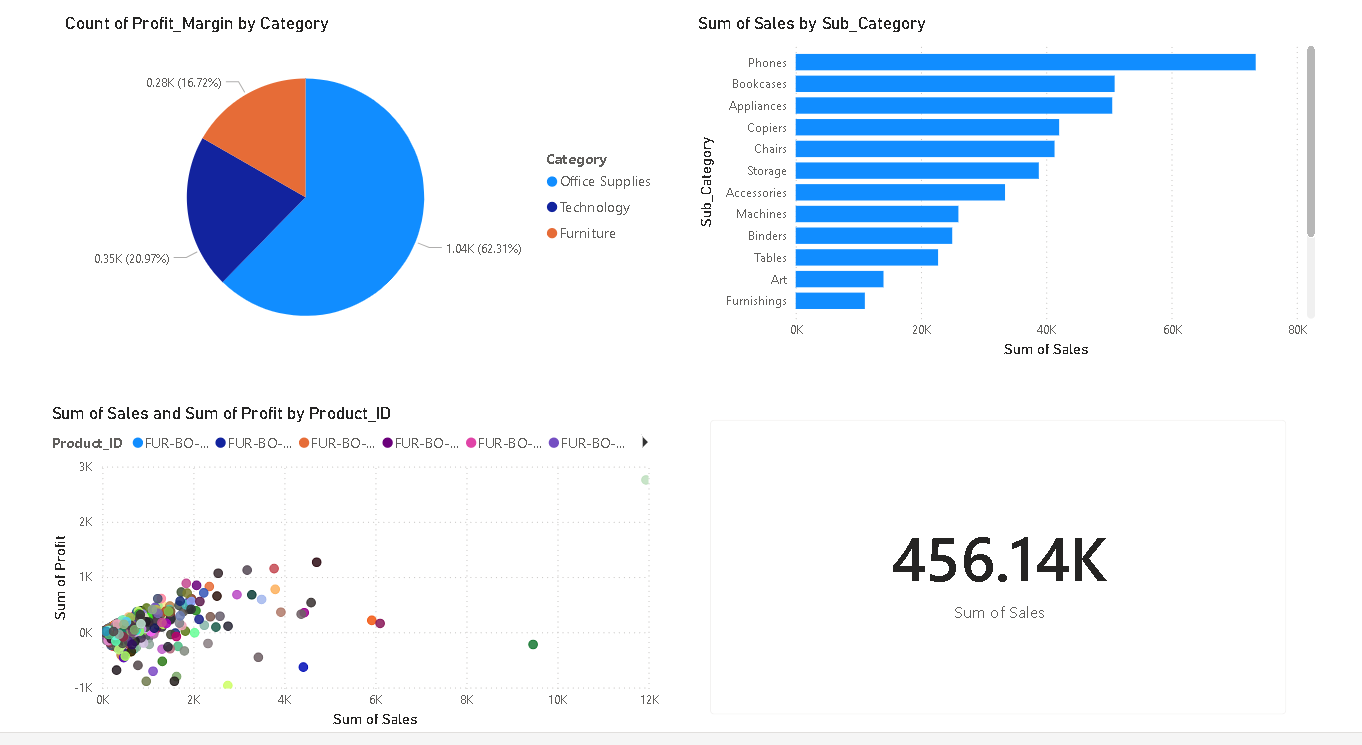

Layout of this report page (visuals, bound fields, positions):
{"tool":"powerbi","page":{"name":"Page 1","canvas":[1280,720],"ordinal":0},"visuals":[{"type":"pieChart","fields":{"Category":["product.Category"],"Y":["CountNonNull(sales.Profit_Margin)"]},"box":[31.1,17.4,589.6,342.1],"z":0},{"type":"clusteredBarChart","fields":{"Category":["product.Sub_Category"],"Y":["Sum(sales.Sales)"]},"box":[648.1,17.4,613.3,342.1],"z":1000},{"type":"scatterChart","fields":{"X":["Sum(sales.Sales)"],"Y":["Sum(sales.Profit)"],"Series":["product.Product_ID"]},"box":[17.4,398.1,603.3,322.2],"z":2000},{"type":"cardVisual","fields":{"Data":["Sum(sales.Sales)"]},"box":[648.1,398.1,597.1,322.2],"z":3000}]}

Visuals, with their boxes in screenshot pixels (x1, y1, x2, y2), scaled from the page's 1280x720 canvas onto the 1362x745 screenshot:
pieChart - product.Category x CountNonNull(sales.Profit_Margin): x1=33 y1=18 x2=660 y2=372
clusteredBarChart - product.Sub_Category x Sum(sales.Sales): x1=690 y1=18 x2=1342 y2=372
scatterChart - Sum(sales.Sales) x Sum(sales.Profit): x1=19 y1=412 x2=660 y2=744
cardVisual - Sum(sales.Sales): x1=690 y1=412 x2=1325 y2=744
